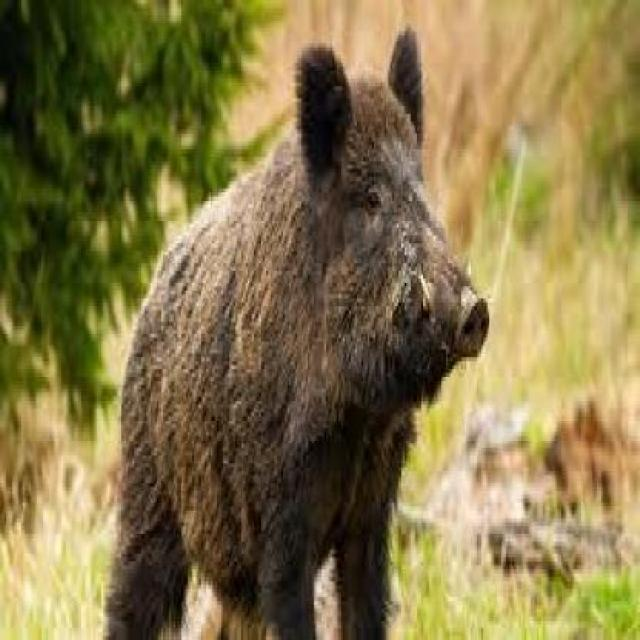Wild Boar: (97, 11, 489, 640)
